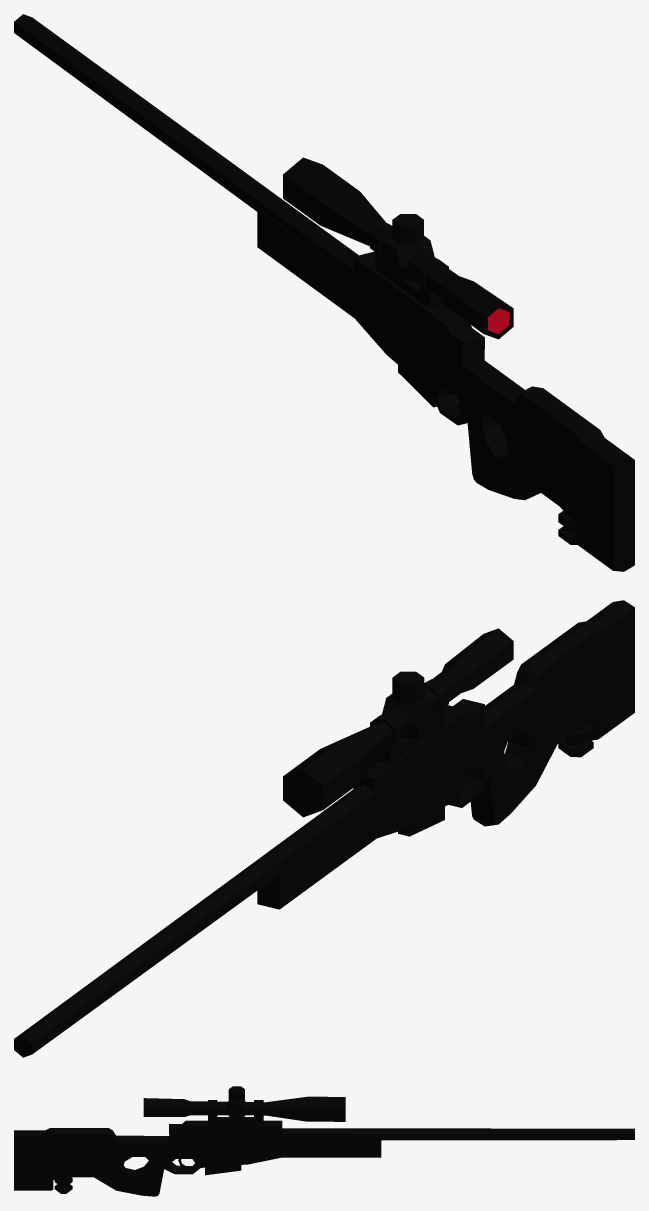
Rendered from Sniper.fbx.
The picture shows the model from 3 angles, top to bottom: view 1: azimuth 30°, elevation 25°; view 2: azimuth 150°, elevation 25°; view 3: azimuth 270°, elevation 25°; orthographic projection. The views are drawn at different scales.
Visible parts, largest first — view 1: Cylinder.004; view 2: Cylinder.004; view 3: Cylinder.004, Cube.002.
Boxes of the visible parts, x1=… form: Cylinder.004: x1=14, y1=14, x2=634, y2=571; Cylinder.004: x1=14, y1=600, x2=634, y2=1057; Cylinder.004: x1=14, y1=1086, x2=634, y2=1196; Cube.002: x1=205, y1=1162, x2=241, y2=1175.
Bounding box in the file's own units: 104 × 515 × 2715.
